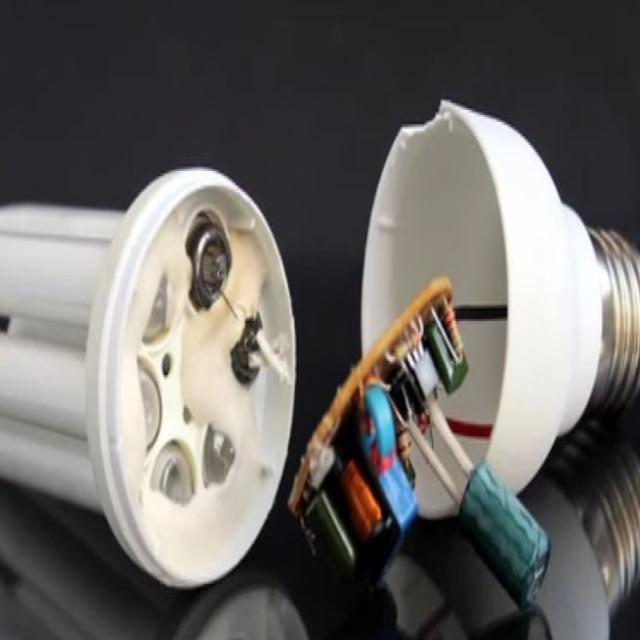electronic: (0, 162, 297, 591), (359, 96, 638, 521)
